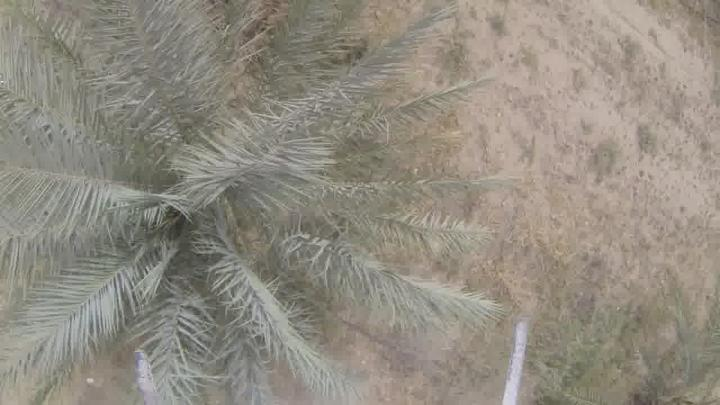Date-Palm-Crown: (15, 45, 335, 362)
